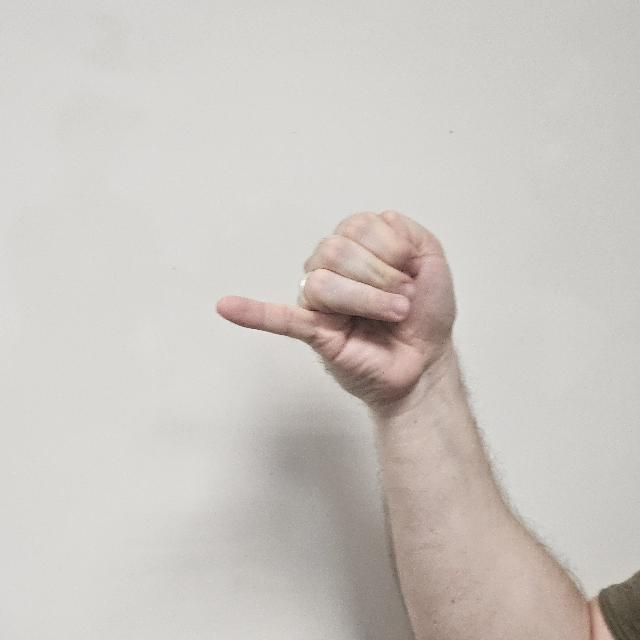Esquerda: (218, 173, 472, 423)
